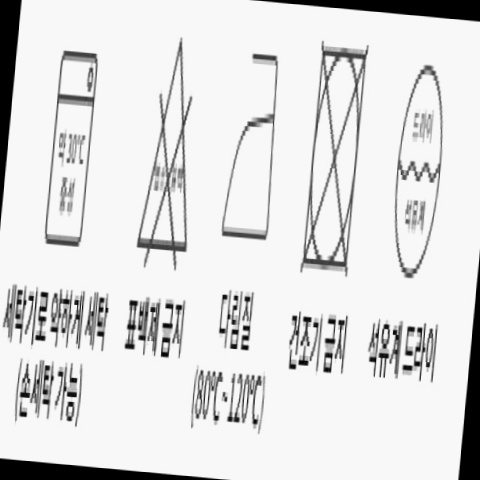30C: (34, 44, 108, 258)
DN_tumble_dry: (289, 31, 387, 287)
dry_clean_petrol_only: (377, 46, 467, 290)
iron: (208, 44, 294, 256)
non_chlorine_bleach: (131, 35, 217, 274)
